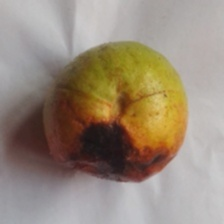guava: (41, 62, 180, 201)
